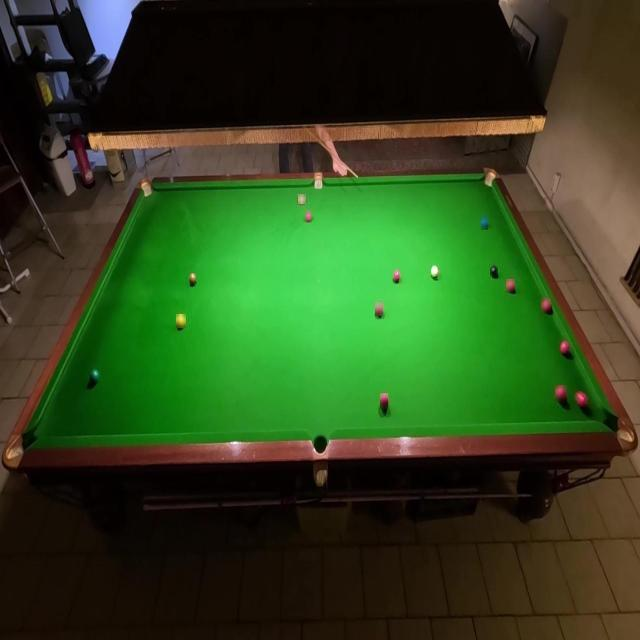Ball: (574, 389, 590, 412), (555, 386, 567, 404), (89, 368, 100, 384), (541, 298, 551, 314), (562, 342, 572, 356), (176, 314, 186, 328), (506, 279, 515, 293), (376, 302, 384, 316), (490, 264, 498, 278), (381, 394, 388, 409), (432, 266, 439, 280), (481, 216, 488, 230), (304, 210, 312, 222), (298, 194, 306, 204), (394, 270, 400, 283), (190, 274, 196, 286)
